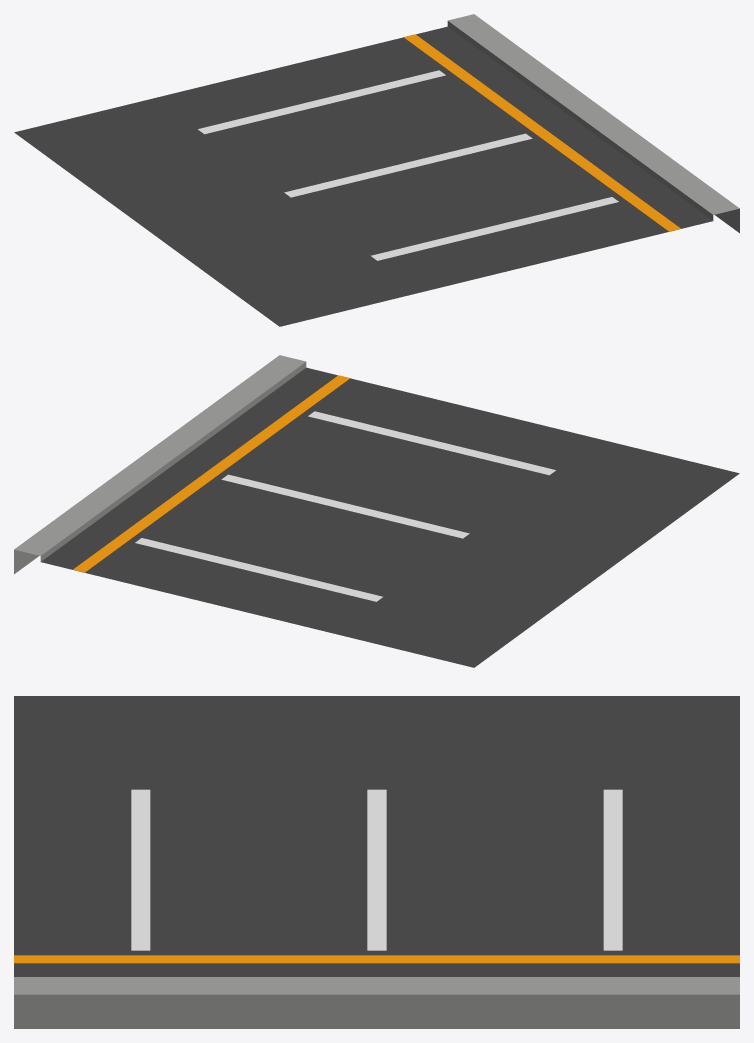
Rendered from ParkingRoad_A_3.fbx.
3 views of the same model, one above another, from view 1: azimuth 30°, elevation 25°; view 2: azimuth 150°, elevation 25°; view 3: azimuth 270°, elevation 25° (orthographic). The views are drawn at different scales.
Visible parts, largest first — view 1: ParkingRoad_A_3; view 2: ParkingRoad_A_3; view 3: ParkingRoad_A_3.
Part boxes in pixels (box(x1,y1,x2,y2)): ParkingRoad_A_3: box(14, 14, 739, 326); ParkingRoad_A_3: box(14, 355, 739, 667); ParkingRoad_A_3: box(14, 696, 739, 1028).
Size of the model in its own units: 800 by 41.48 by 800.
